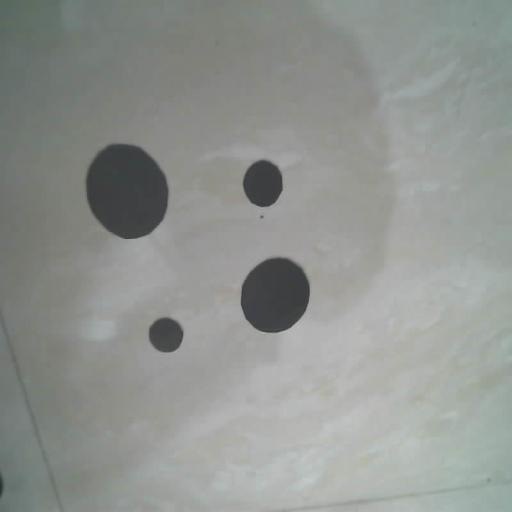pothole: (85, 143, 169, 240), (240, 257, 310, 334), (242, 160, 284, 208), (148, 317, 184, 353)
